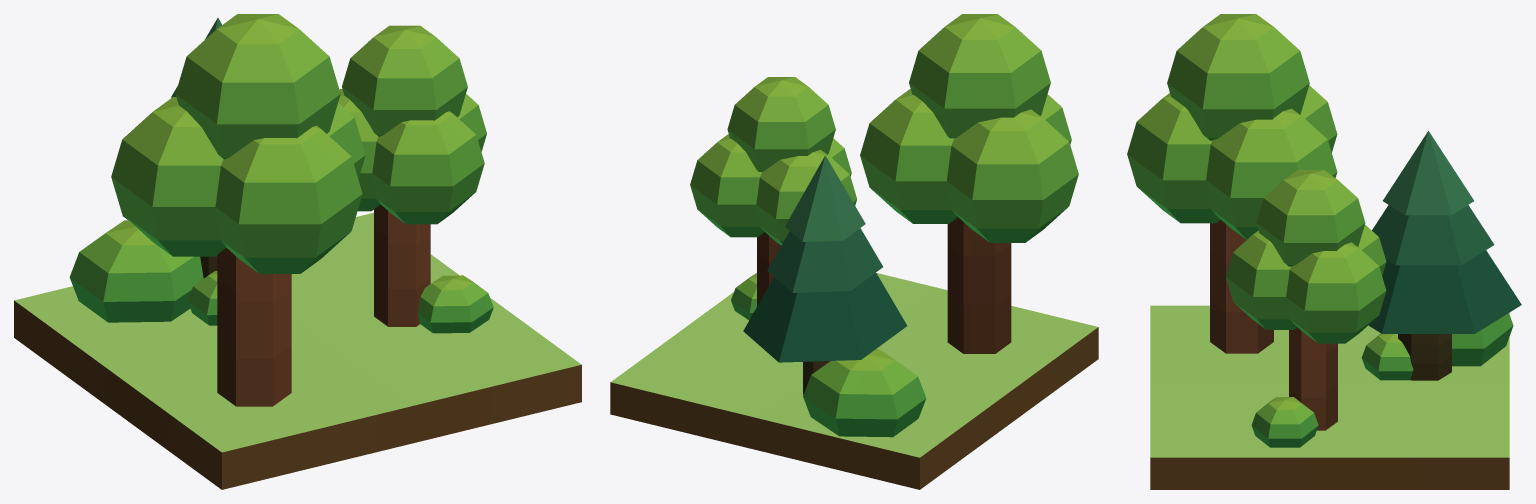
The model's file is compo arbres.fbx.
3 renders of one model, left to right at view 1: azimuth 30°, elevation 25°; view 2: azimuth 150°, elevation 25°; view 3: azimuth 270°, elevation 25°, orthographic. The views are drawn at different scales.
Visible parts, largest first — view 1: buisson.005; view 2: buisson.005; view 3: buisson.005.
Part boxes in pixels (x1,y1,x2,y2): buisson.005: [14, 14, 581, 489]; buisson.005: [610, 14, 1098, 489]; buisson.005: [1127, 14, 1521, 489].
Bounding box in the file's own units: 213 × 220 × 219.
